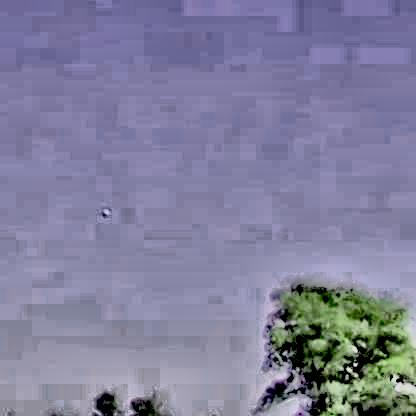golfball: (99, 207, 107, 215)
